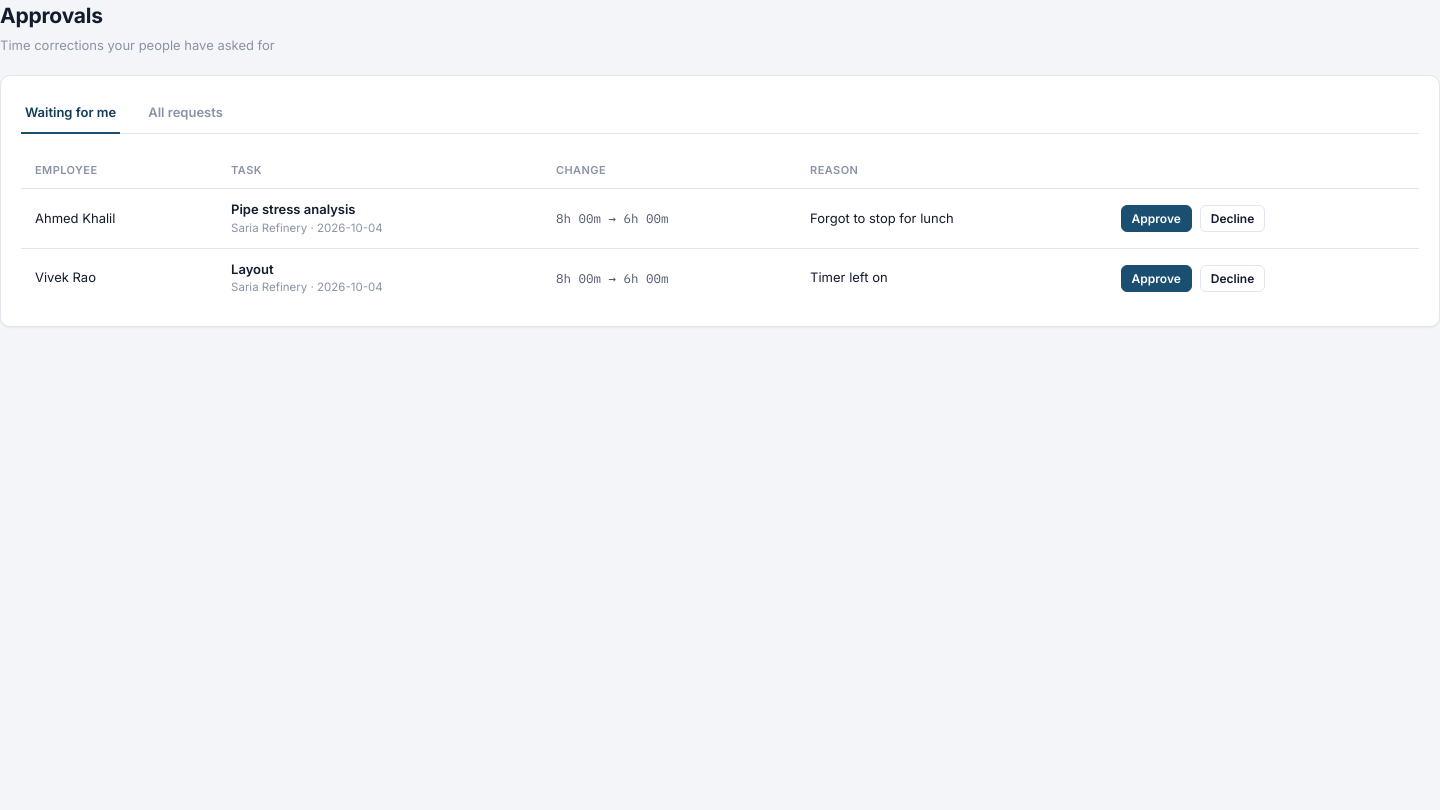
Test: Approvals › shows the server’s reason if the decision cannot be saved, and keeps the dialog open
The image size is (1440, 810).
Click the button "Approve" in the row of "Ahmed Khalil" at (1156, 218), box [1121, 205, 1192, 232]
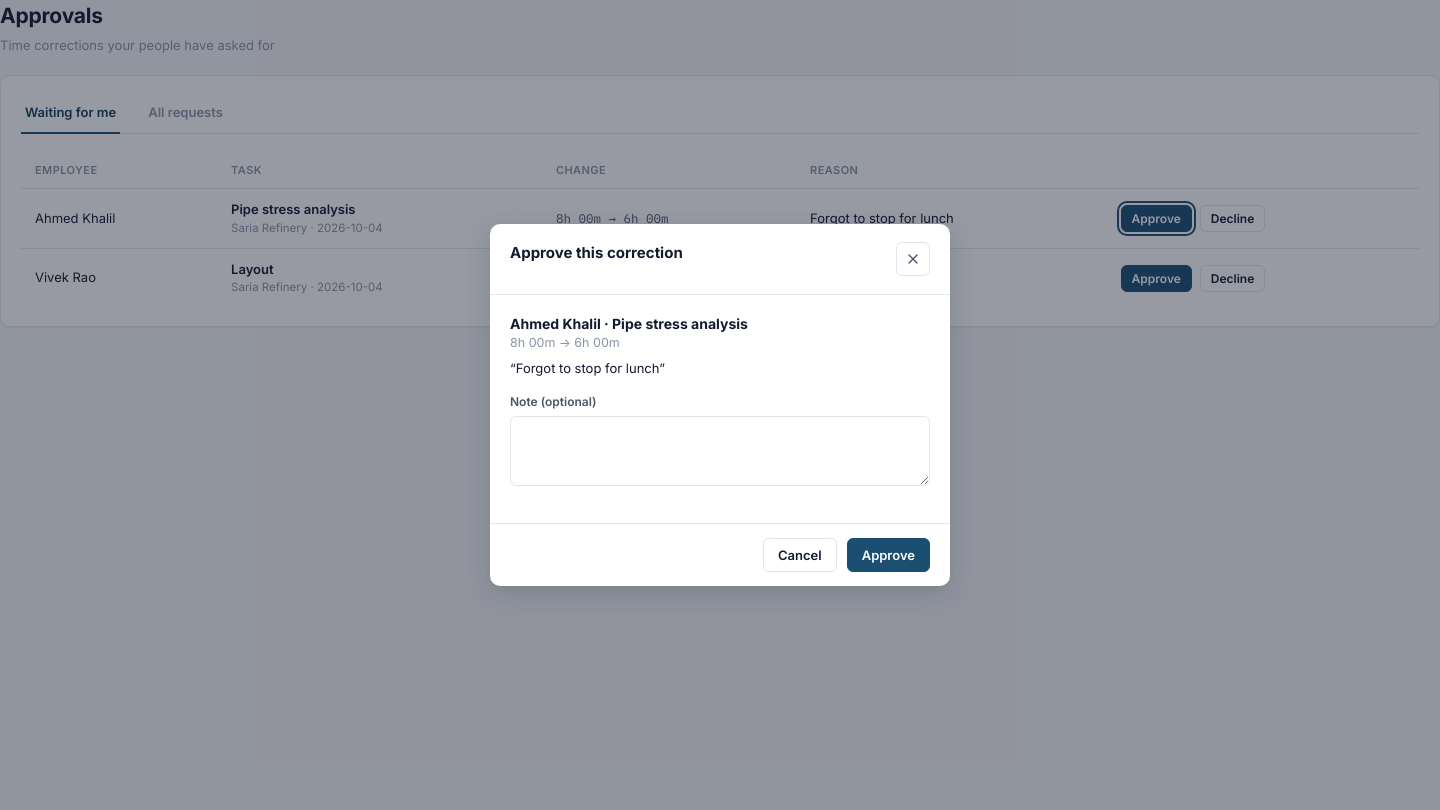
Click the button "Approve" at (888, 555), box [847, 538, 930, 572]
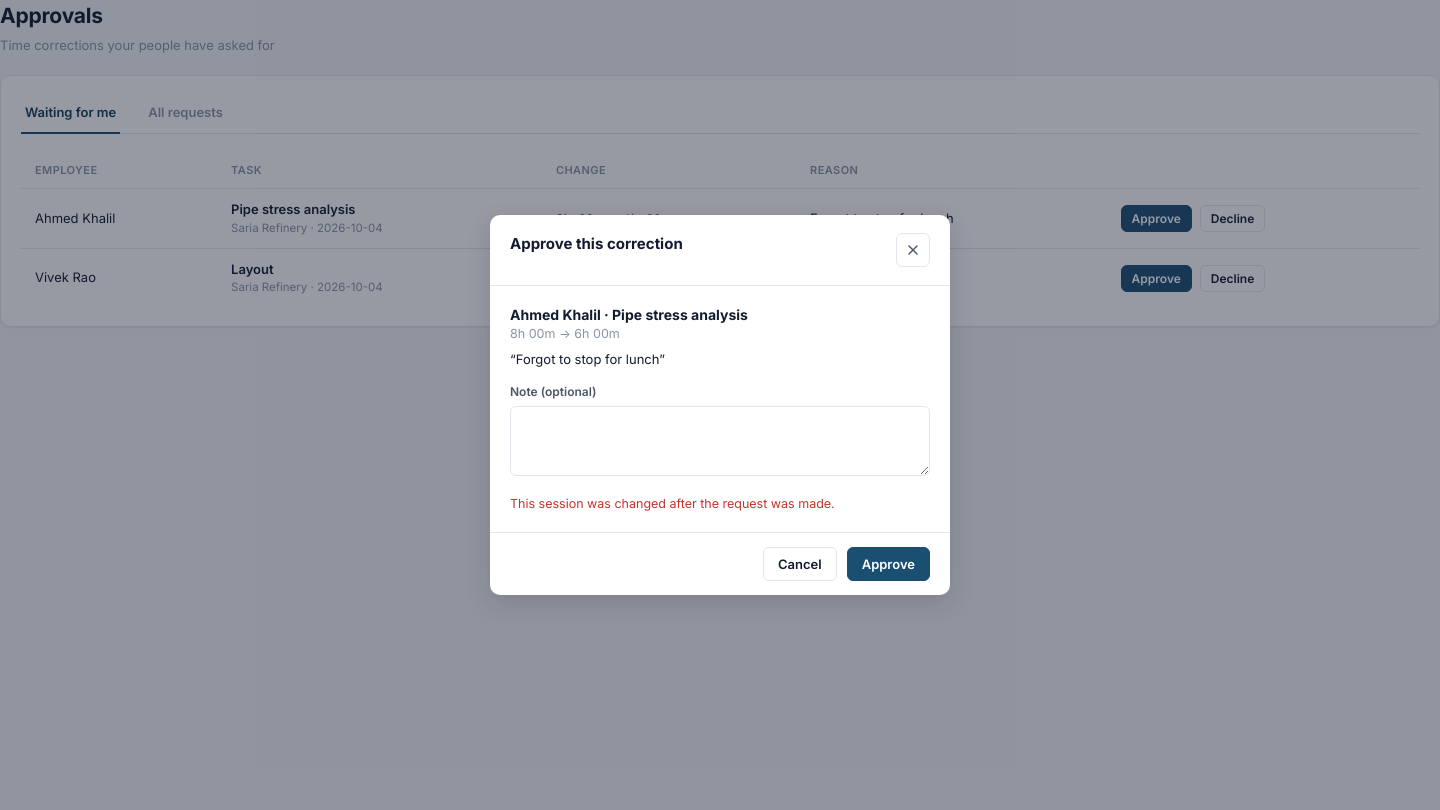
Expected: the message shows "changed after the request", [510, 496, 835, 511]
